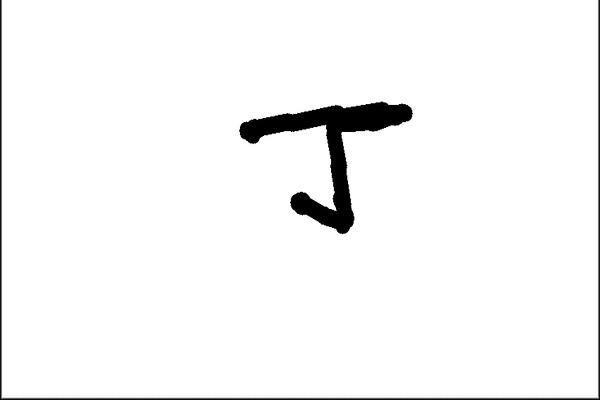J: (233, 95, 420, 237)
